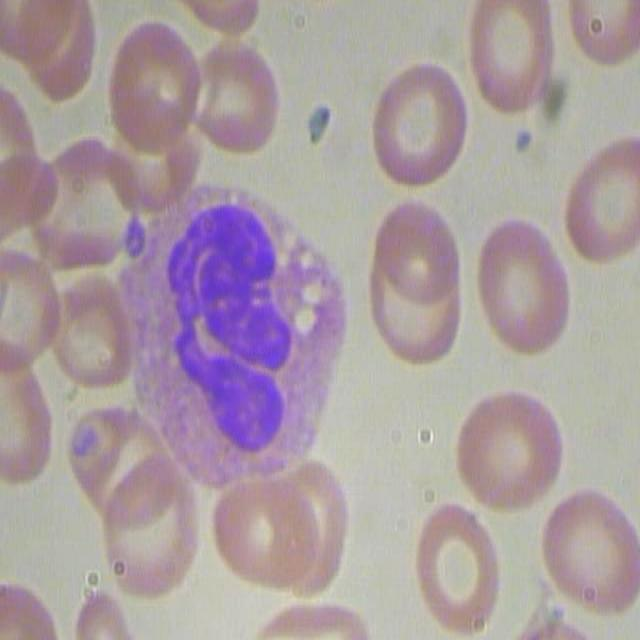RBC: (94, 398, 202, 602), (208, 450, 352, 600), (364, 192, 468, 374), (29, 138, 144, 278), (470, 212, 571, 358), (454, 387, 564, 519), (104, 13, 203, 150), (177, 36, 283, 160), (536, 488, 637, 617), (368, 60, 469, 188), (411, 501, 506, 636), (44, 271, 132, 396), (1, 556, 128, 640), (463, 1, 556, 113), (562, 137, 640, 270), (1, 2, 95, 102), (0, 257, 60, 375), (0, 361, 51, 488), (244, 596, 380, 640), (181, 0, 289, 53), (561, 0, 637, 65), (504, 602, 611, 640)
WBC: (170, 174, 337, 484)
platelets: (116, 216, 152, 272)
